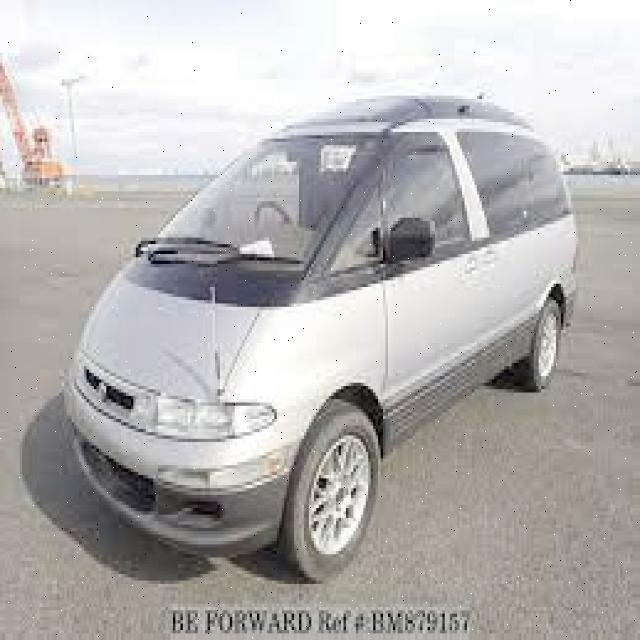Van: (57, 92, 576, 580)
